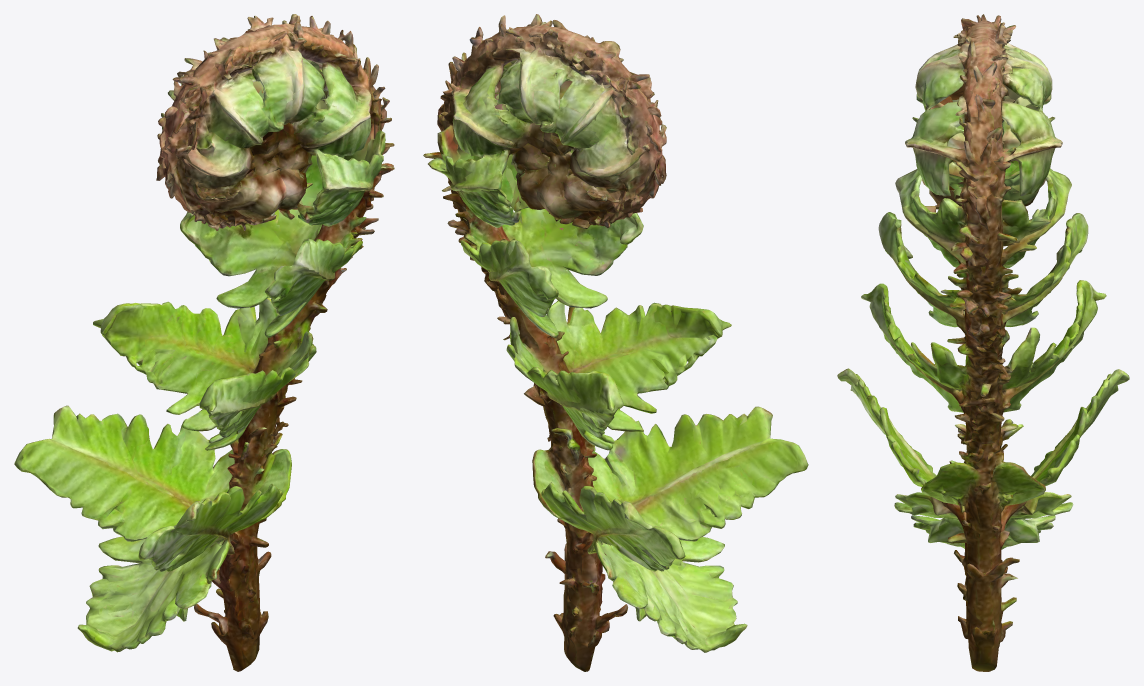
The model's file is fern-curl-v12-lod.glb.
The picture shows the model from 3 angles, left to right: view 1: azimuth 30°, elevation 25°; view 2: azimuth 150°, elevation 25°; view 3: azimuth 270°, elevation 25°; orthographic projection. The views are drawn at different scales.
Visible parts, largest first — view 1: geometry_0; view 2: geometry_0; view 3: geometry_0.
Part boxes in pixels (left/top/right/bottom): geometry_0: left=14, top=14, right=394, bottom=671; geometry_0: left=423, top=14, right=808, bottom=671; geometry_0: left=837, top=14, right=1129, bottom=671.
Bounding box in the file's own units: 0.0904 × 0.1799 × 0.0722.
Materials: 1 (1 with a texture image).
